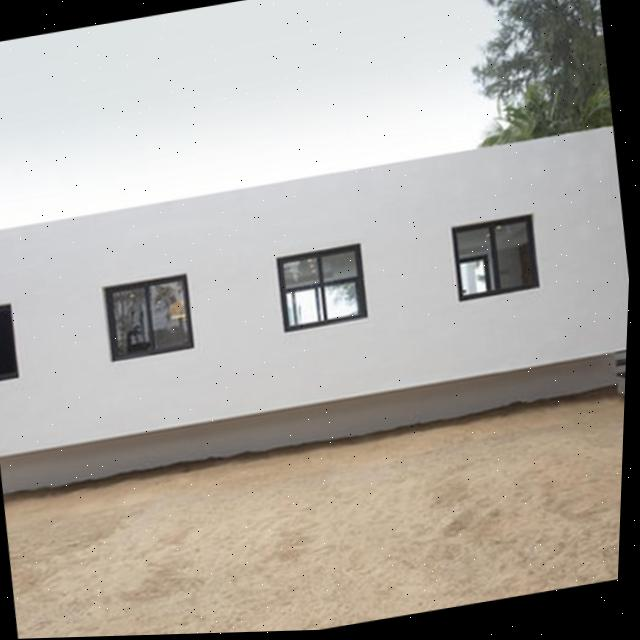building: (0, 121, 635, 499)
